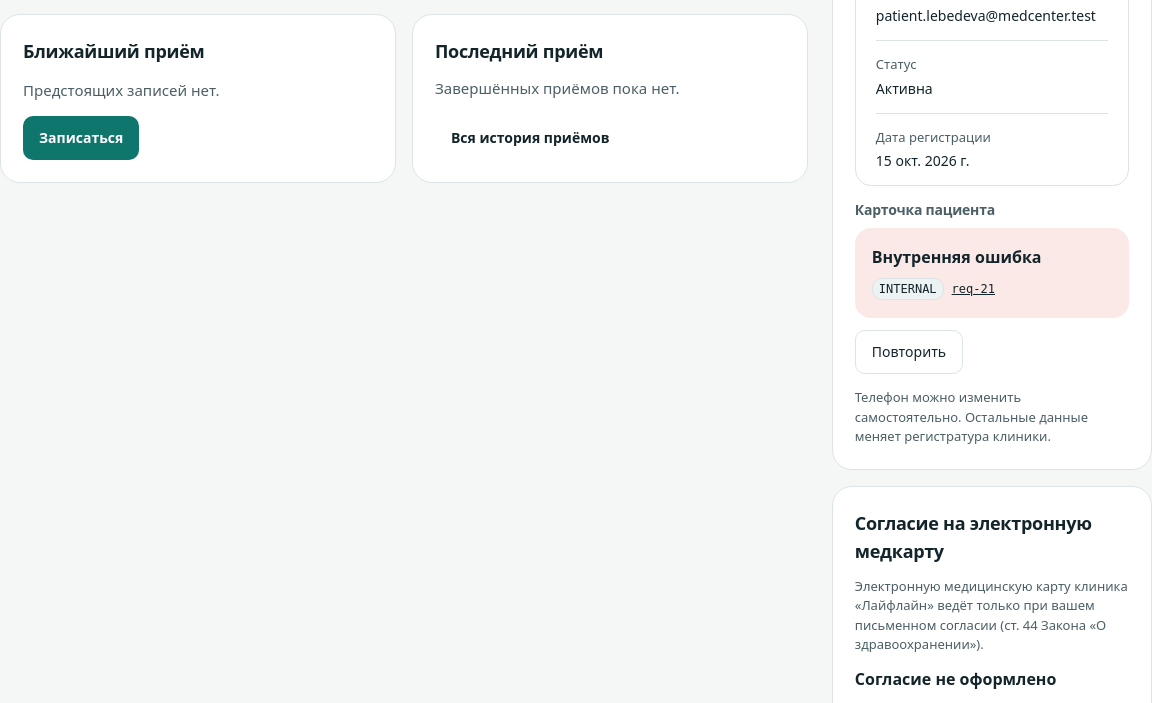
Scenario: ProfileView › failures and sparse data › should keep the account and offer a retry for the card when only /me/patient fails, without a ring
(page scrolled)
expect the message with test id "problem-banner" shows "req-21": met, box [952, 277, 995, 301]
expect the picture "Профиль заполнен" is not shown: met
What coordinates should you click on to do the following:
click the button "Повторить"
I would click on:
 (909, 352)
Its box is [855, 330, 963, 374].
(page scrolled)
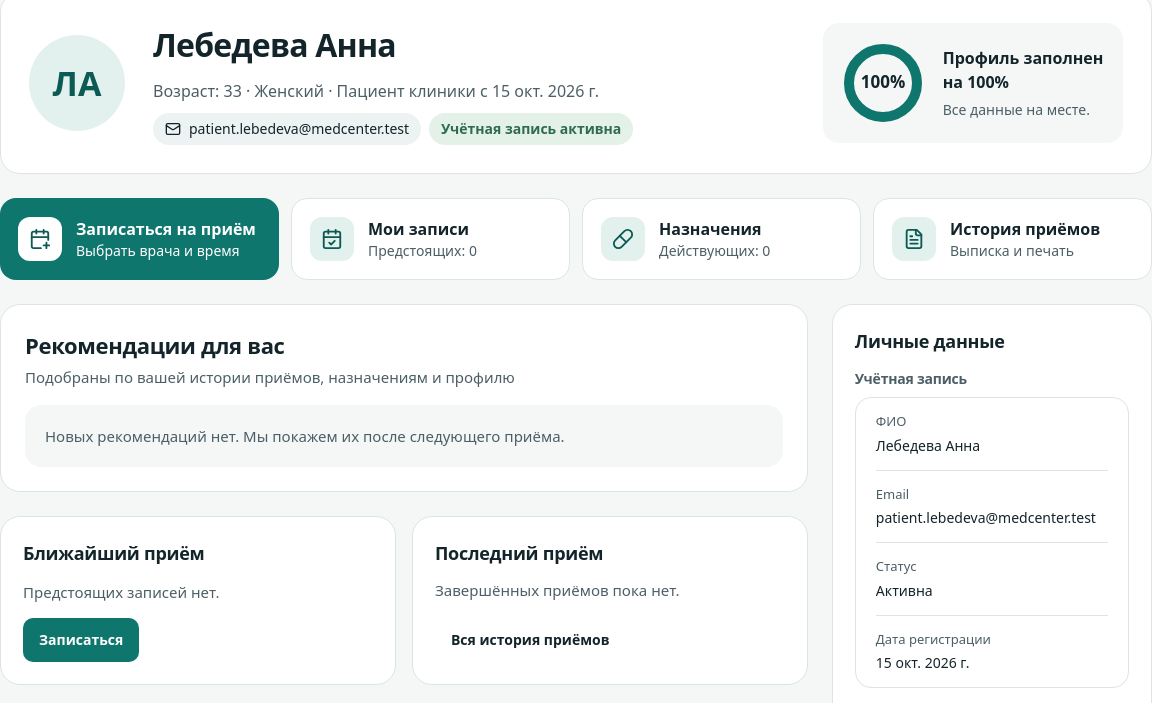
expect the picture named "Профиль заполнен на 100 процентов" is shown: met, box [841, 41, 925, 125]
